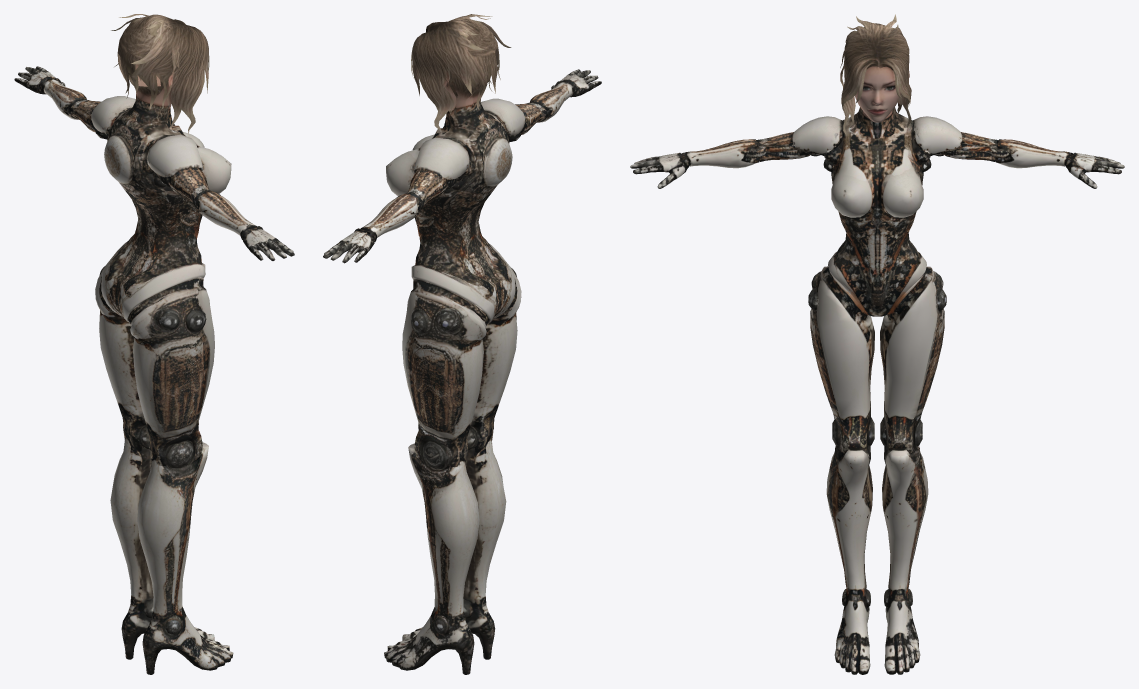
Rendered from ChatGPT_Image_Sep_7__2026__07_32_42_PM.glb.
3 renders of one model, left to right at view 1: azimuth 30°, elevation 25°; view 2: azimuth 150°, elevation 25°; view 3: azimuth 270°, elevation 25°, orthographic. The views are drawn at different scales.
Parts seen in each view (by area): view 1: tripo_node_23c9f80f; view 2: tripo_node_23c9f80f; view 3: tripo_node_23c9f80f.
Part boxes in pixels (bbox=[...]): tripo_node_23c9f80f: bbox=[14, 14, 294, 674]; tripo_node_23c9f80f: bbox=[323, 14, 601, 674]; tripo_node_23c9f80f: bbox=[630, 14, 1124, 674].
Bounding box in the file's own units: 0.3069 × 1.75 × 1.27.
1 material, 1 textured.
